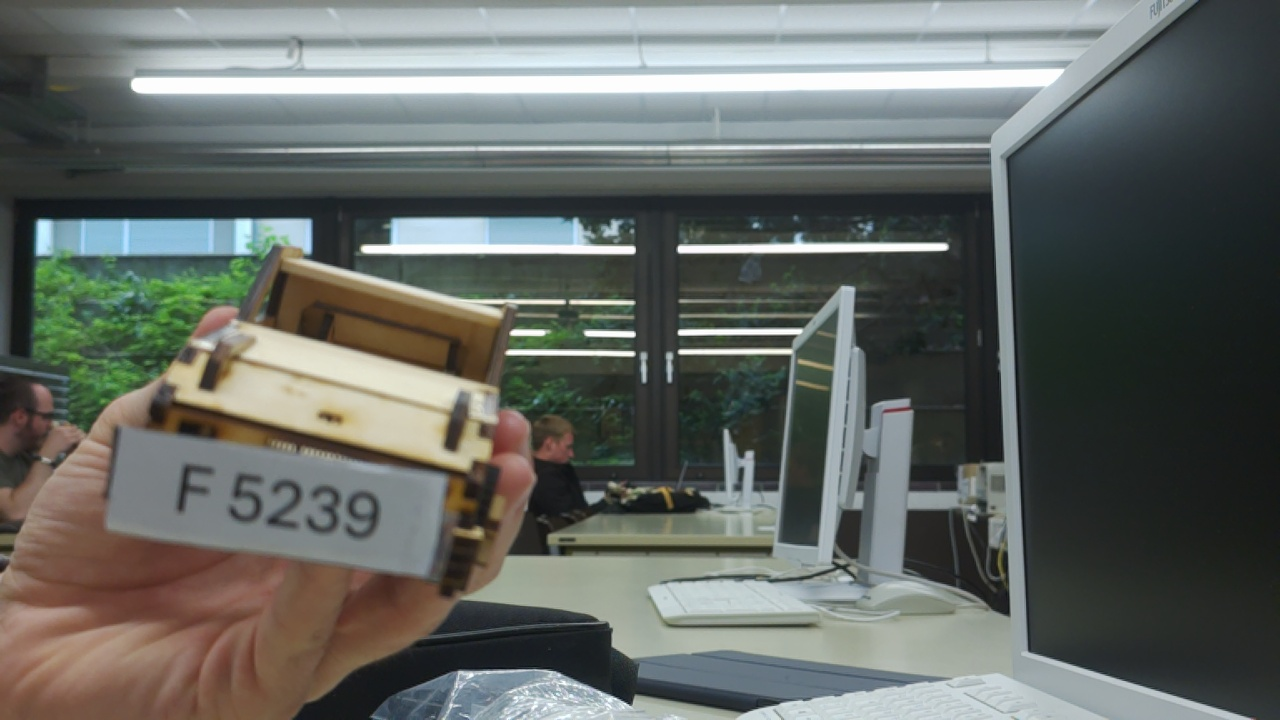license_plate: (99, 417, 450, 589)
